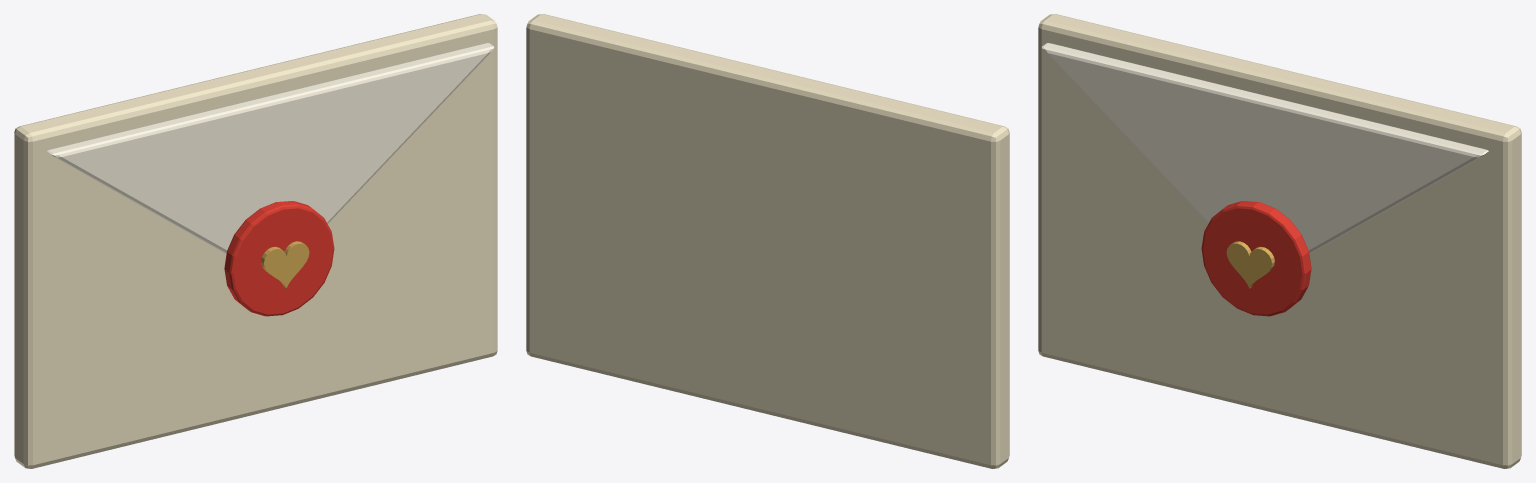
File: P001_love_letter.glb
The picture shows the model from 3 angles, left to right: view 1: azimuth 30°, elevation 25°; view 2: azimuth 150°, elevation 25°; view 3: azimuth 330°, elevation 25°; orthographic projection.
Parts seen in each view (by area): view 1: P001_envelope_001, P001_flap_002, P001_wax_003, P001_seal_004; view 2: P001_envelope_001; view 3: P001_envelope_001, P001_flap_002, P001_wax_003, P001_seal_004.
Part boxes in pixels (x1,y1,x2,y2): P001_envelope_001: (14,14,497,468); P001_flap_002: (47,43,493,253); P001_wax_003: (224,201,334,316); P001_seal_004: (261,241,309,288); P001_envelope_001: (526,14,1009,468); P001_envelope_001: (1038,14,1521,468); P001_flap_002: (1042,43,1488,253); P001_wax_003: (1201,201,1311,316); P001_seal_004: (1226,241,1274,288).
Bounding box in the file's own units: 0.28 × 0.19 × 0.0395.
